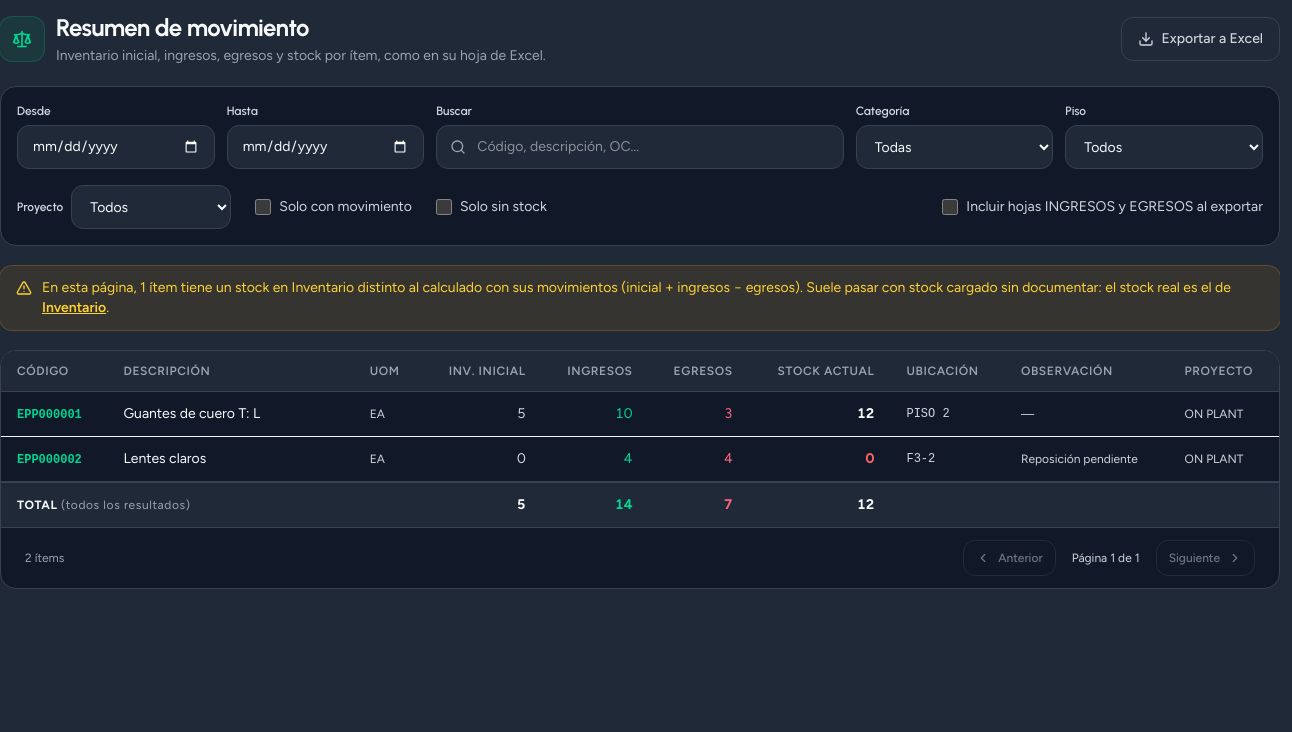
ResumenPage › avisa de los movimientos sin fecha que quedan fuera del periodo
The width and height of the screenshot is (1292, 732).
Check: the table is shown, box left=1, top=351, right=1279, bottom=527
Check: the text "sin fecha no se incluye" is not shown
Type "2026-10-01" into the date field labelled "Desde" at (116, 147), box left=17, top=125, right=215, bottom=169
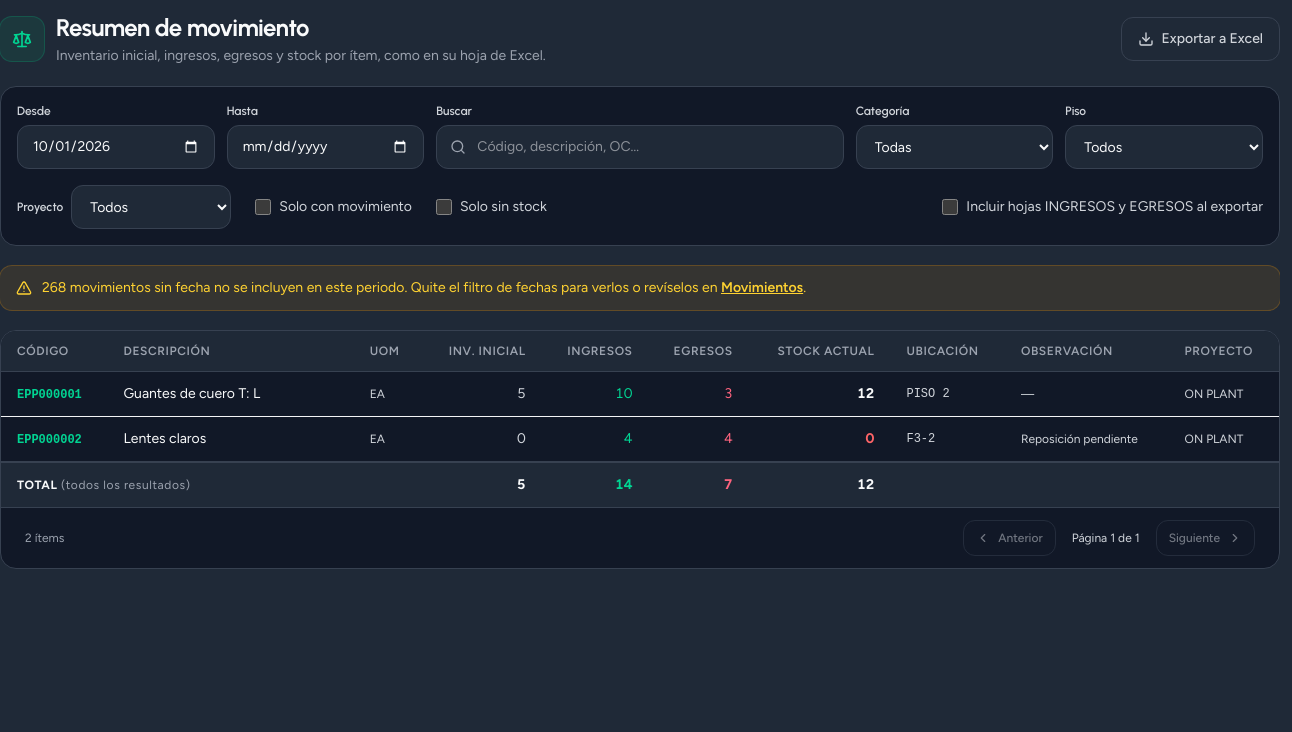
Check: the text "268 movimientos sin fecha no se incluyen en este periodo" is shown, box left=42, top=278, right=806, bottom=298
